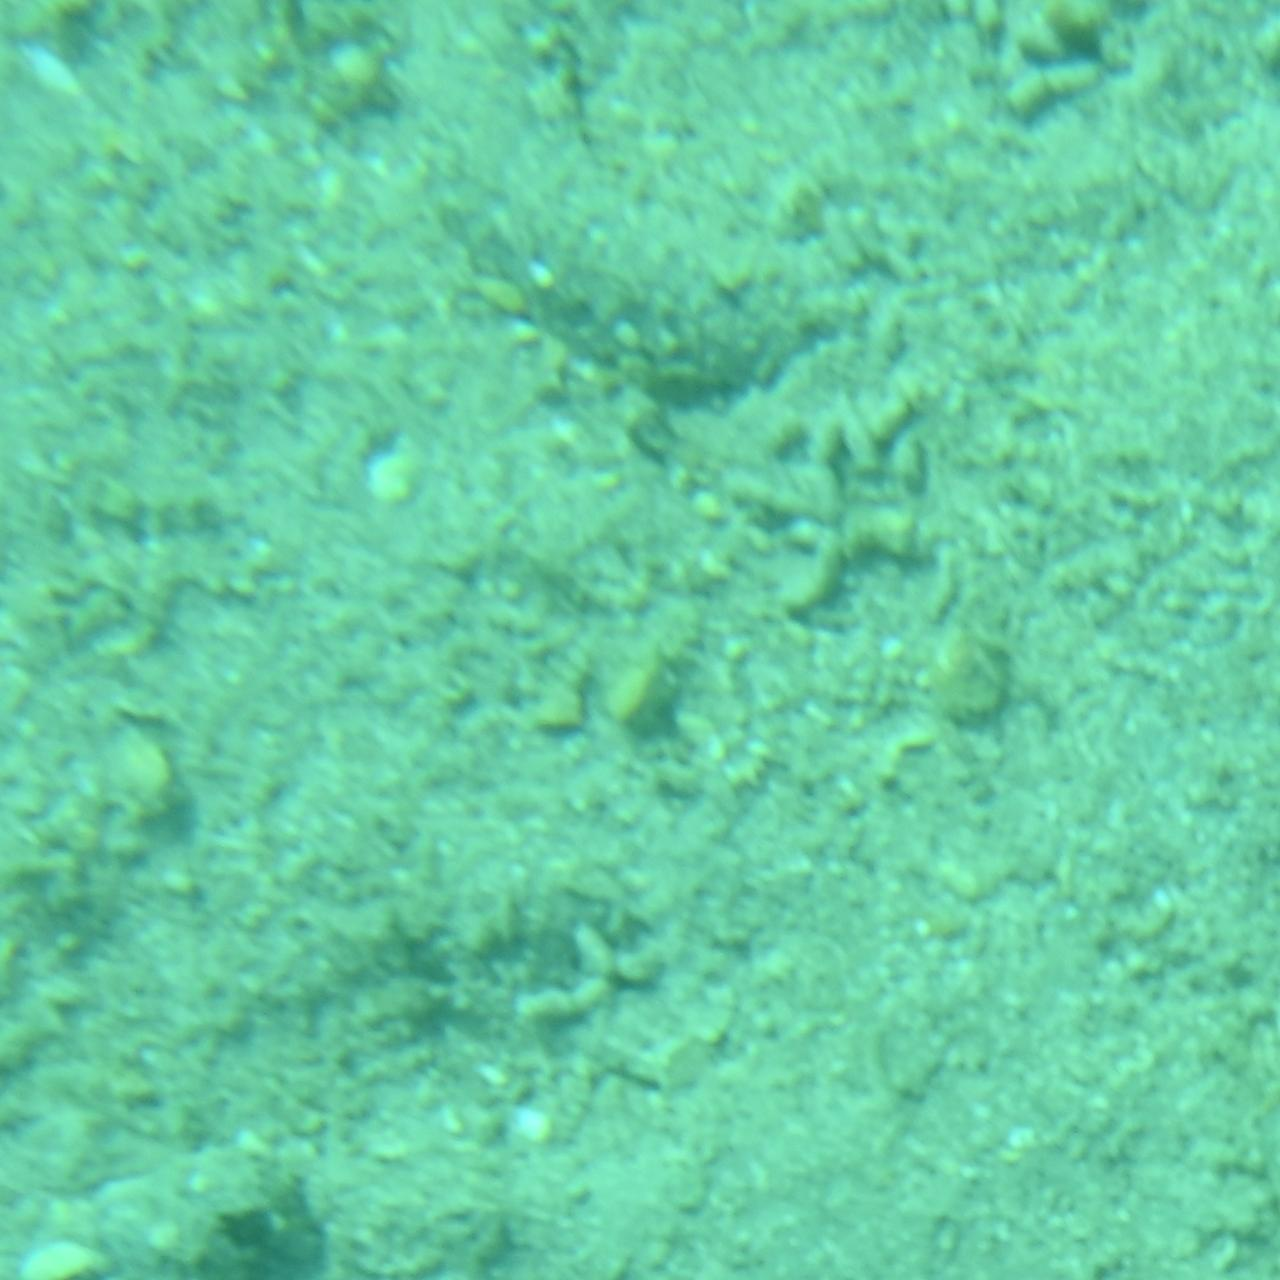Holothuria tubulosa: (361, 0, 919, 402)
